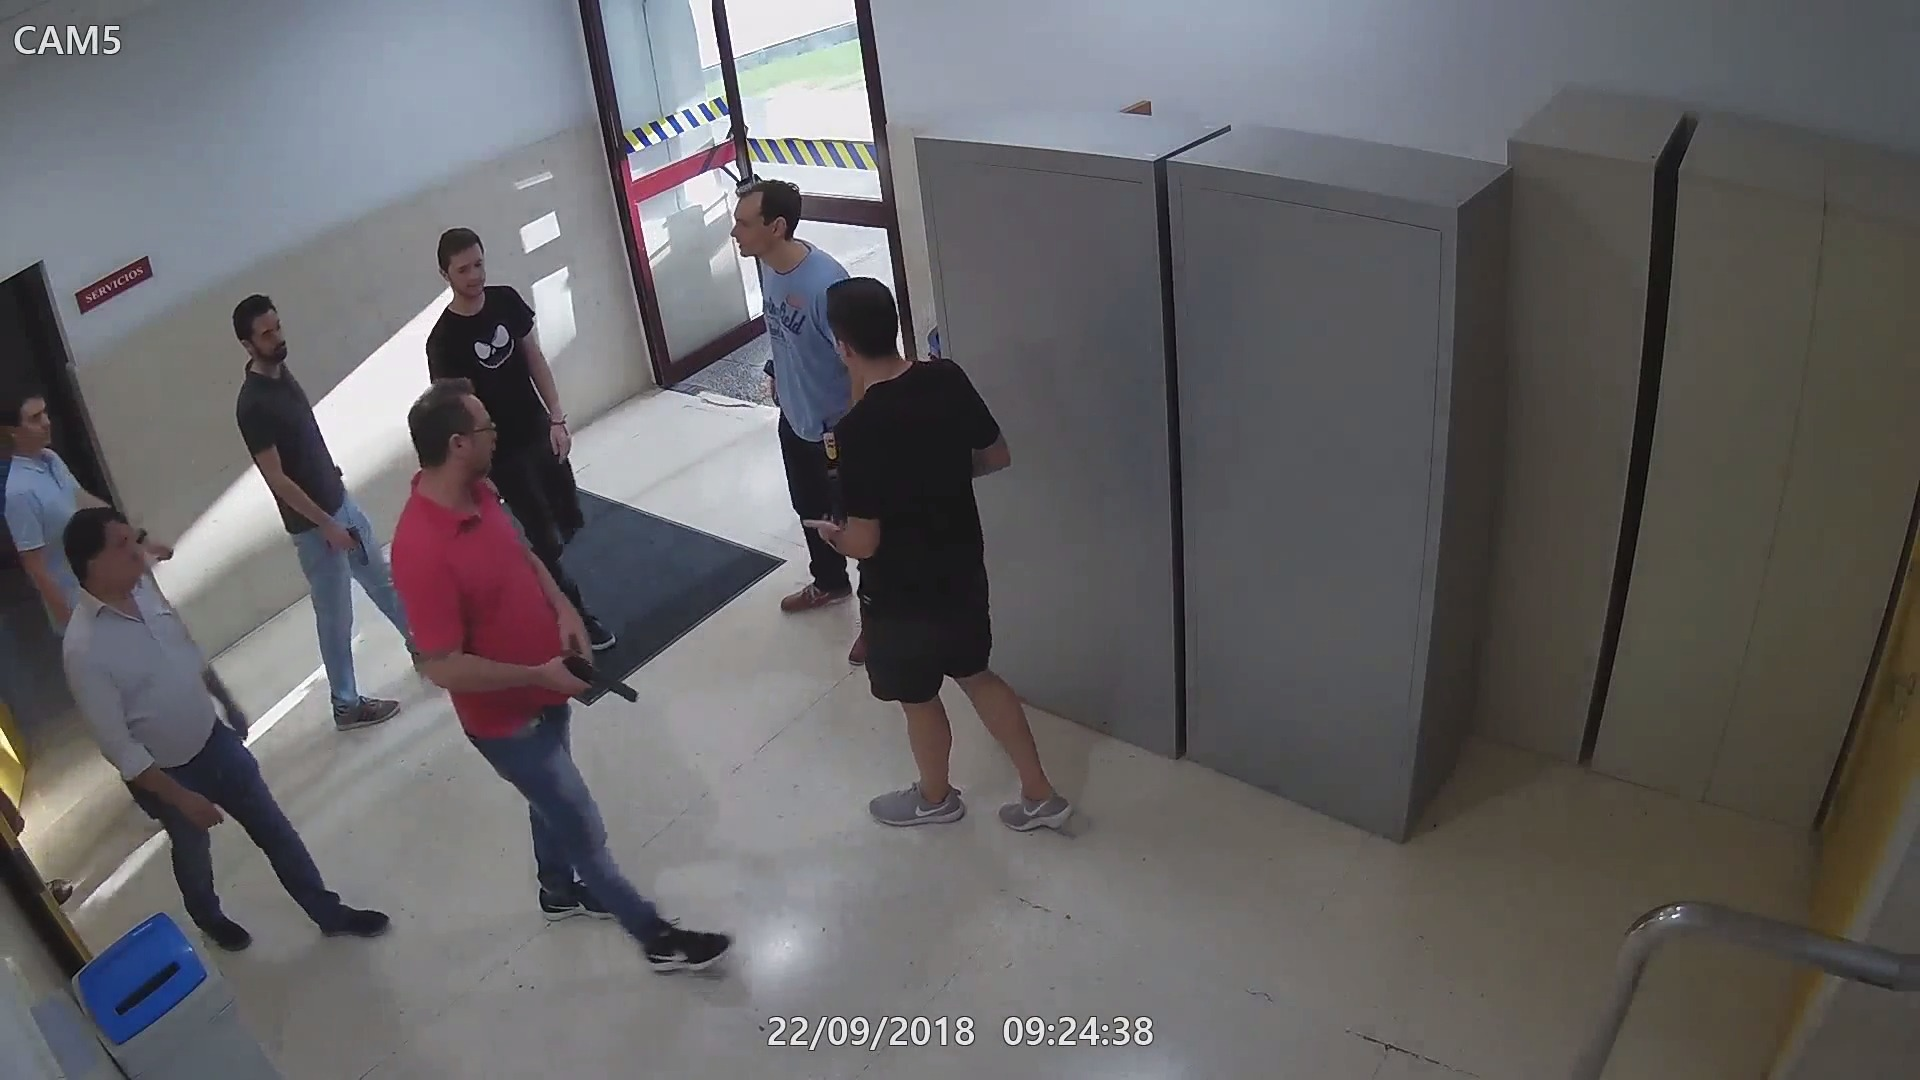Handgun: (550, 650, 640, 705), (320, 520, 371, 568), (124, 771, 161, 825), (756, 349, 785, 390)
